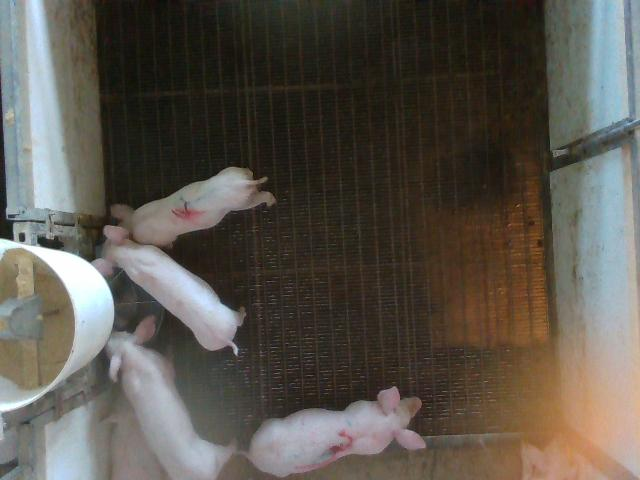pig-3: (248, 386, 424, 476)
pig-4: (110, 168, 274, 246)
